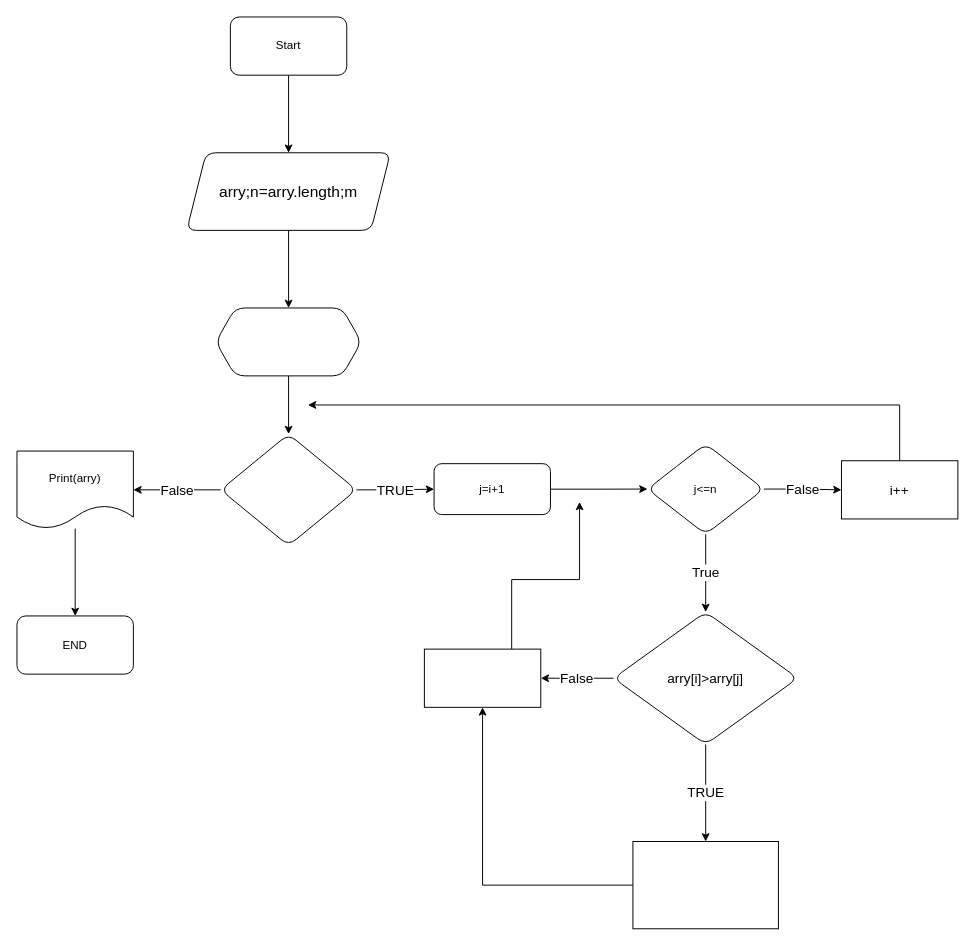
The diagram is 975 pixels wide and 946 high, and some of its shapes have lost their labels. Each missing label, with the centre of its shape:
i<=n: the point at 288,489
i=0;i<n;i++: the point at 288,341
j++: the point at 482,677
m=arry[i]; arry[i]=arry[j]; arry[j]=m: the point at 705,885
